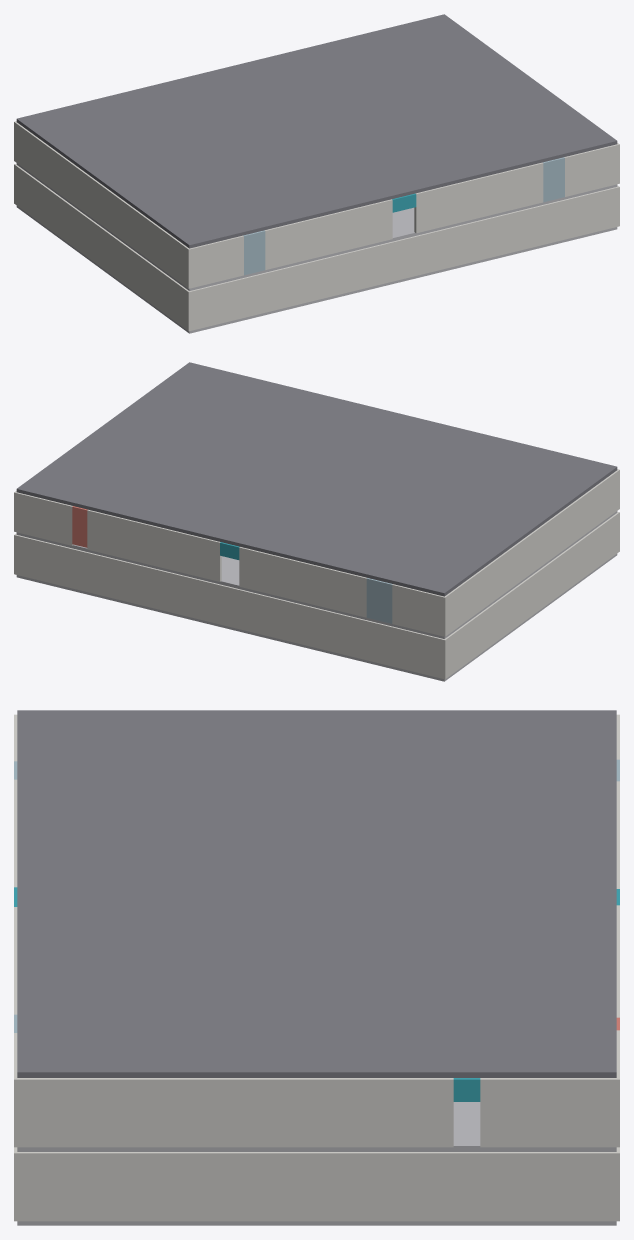
Rendered from country_club_a01.glb.
3 renders of one model, top to bottom at view 1: azimuth 30°, elevation 25°; view 2: azimuth 150°, elevation 25°; view 3: azimuth 270°, elevation 25°, orthographic. The views are drawn at different scales.
Visible parts, largest first — view 1: slab_1_t0_0, slab_1_t0_1, slab_1_t0_4, slab_1_t0_3, slab_1_t0_6, slab_1_t0_7, slab_1_t0_2, slab_1_t0_5, slab_1_t4_0, slab_1_t5_0, slab_1_t1_0, slab_1_t2_0 (+101 smaller); view 2: slab_1_t5_0, slab_1_t5_1, slab_1_t5_4, slab_1_t5_3, slab_1_t5_6, slab_1_t5_7, slab_1_t5_2, slab_1_t5_5, slab_1_t0_0, slab_1_t1_0, slab_1_t2_0, slab_1_t3_0 (+102 smaller); view 3: slab_1_t0_7, slab_1_t1_7, slab_1_t2_7, slab_1_t3_7, slab_1_t4_7, slab_1_t5_7, slab_1_t0_0, slab_1_t0_1, slab_1_t0_3, slab_1_t0_4, slab_1_t0_5, slab_1_t1_0 (+64 smaller).
Boxes of the visible parts, x1,y1,x2,y2 form: slab_1_t0_0: (160,211,242,248); slab_1_t0_1: (214,198,296,235); slab_1_t0_4: (375,159,456,196); slab_1_t0_3: (321,172,403,209); slab_1_t0_6: (482,133,563,170); slab_1_t0_7: (535,120,617,156); slab_1_t0_2: (268,185,349,222); slab_1_t0_5: (428,146,510,183); slab_1_t4_0: (45,126,127,163); slab_1_t5_0: (16,105,98,142); slab_1_t1_0: (132,190,213,227); slab_1_t2_0: (103,169,184,206); slab_1_t5_0: (391,559,473,596); slab_1_t5_1: (337,546,419,583); slab_1_t5_4: (177,507,258,544); slab_1_t5_3: (230,520,312,557); slab_1_t5_6: (70,481,151,518); slab_1_t5_7: (16,468,98,504); slab_1_t5_2: (284,533,365,570); slab_1_t5_5: (123,494,205,531); slab_1_t0_0: (535,453,617,490); slab_1_t1_0: (506,474,588,511); slab_1_t2_0: (478,496,559,532); slab_1_t3_0: (449,517,530,554); slab_1_t0_7: (17,1027,116,1077); slab_1_t1_7: (117,1027,216,1077); slab_1_t2_7: (217,1027,316,1077); slab_1_t3_7: (317,1027,416,1077); slab_1_t4_7: (417,1027,516,1077); slab_1_t5_7: (517,1027,616,1077); slab_1_t0_0: (17,710,116,755); slab_1_t0_1: (17,755,116,800); slab_1_t0_3: (17,846,116,891); slab_1_t0_4: (17,891,116,936); slab_1_t0_5: (17,936,116,981); slab_1_t1_0: (117,710,216,755).
Size of what is drawn, in the model's own units: 40.3 by 7.9 by 28.3.
